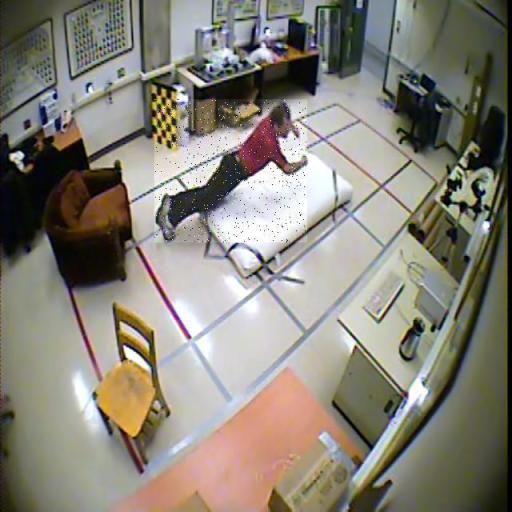Fall: (155, 100, 308, 243)
